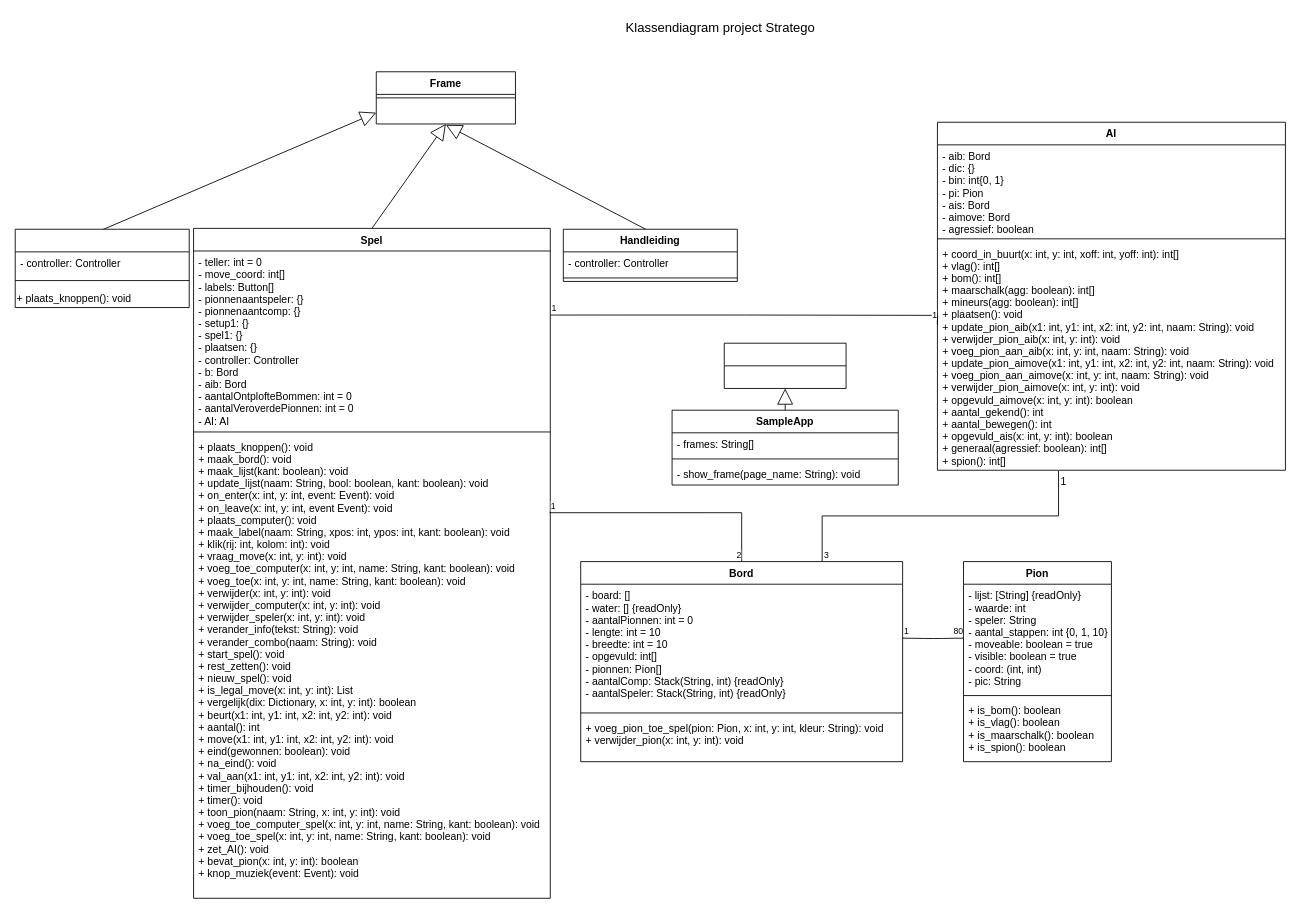
The diagram is 1301 pixels wide and 915 high, and some of its shapes have lost their labels. Here are the shapes that lost their labels. From the top down, the box of each, then its label:
(14, 228, 189, 308): Startpagina
(723, 342, 846, 388): Tk
